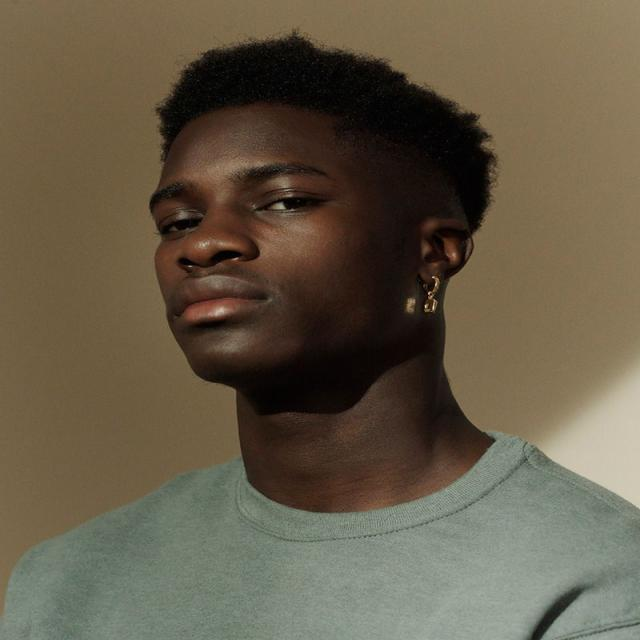earlobe: (421, 261, 444, 285)
eye: (257, 194, 317, 212), (163, 217, 200, 235)
nose: (176, 250, 244, 286)
wholeear: (420, 217, 474, 285)
